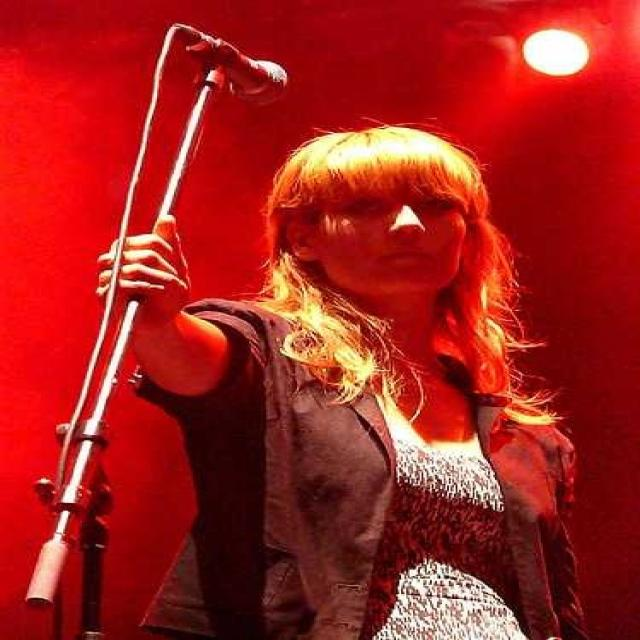microphone: (175, 23, 292, 105)
